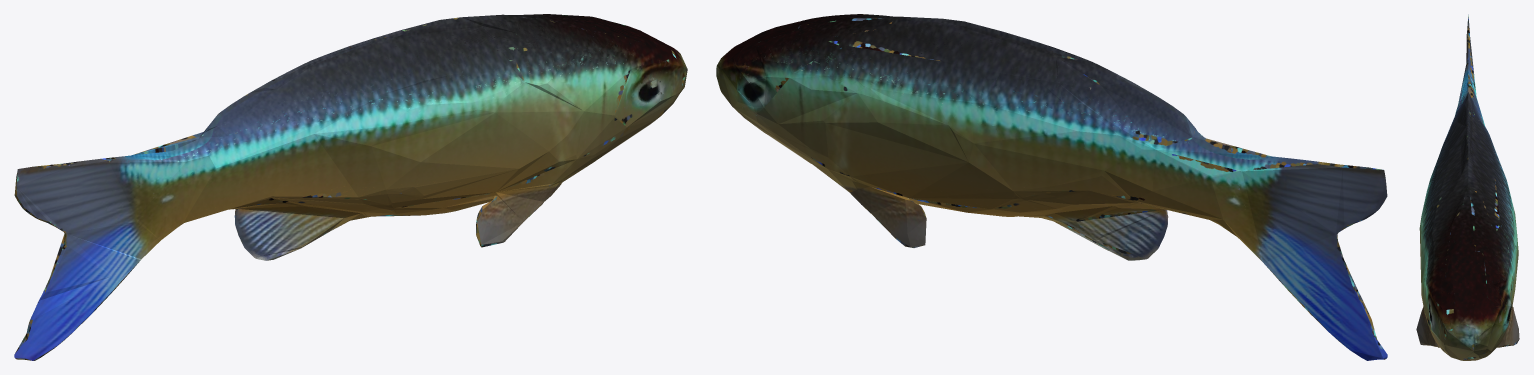
File: fish_0114_smpl23_resized.glb
3 renders of one model, left to right at view 1: azimuth 30°, elevation 25°; view 2: azimuth 150°, elevation 25°; view 3: azimuth 270°, elevation 25°, orthographic. The views are drawn at different scales.
Visible parts, largest first — view 1: world; view 2: world; view 3: world.
Part boxes in pixels (left/top/right/bottom): world: left=14, top=14, right=687, bottom=360; world: left=716, top=14, right=1387, bottom=360; world: left=1416, top=14, right=1519, bottom=360.
Bounding box in the file's own units: 1.99 × 0.6873 × 0.3115.
Materials: 1 (1 with a texture image).
